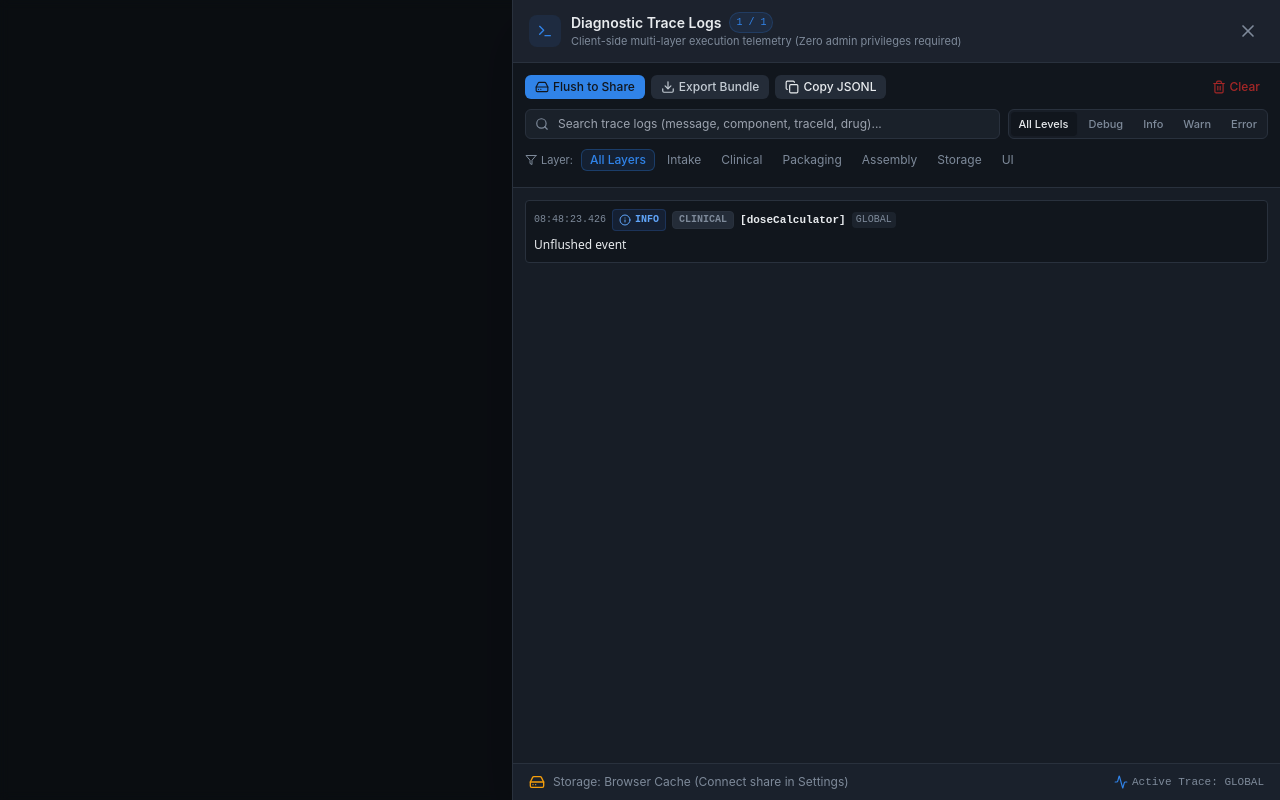
Test: TraceLogDrawer › displays destination feedback on successful flush
The width and height of the screenshot is (1280, 800).
Click the button titled "Flush pending memory traces".
click(585, 86)  # box [525,74,645,98]
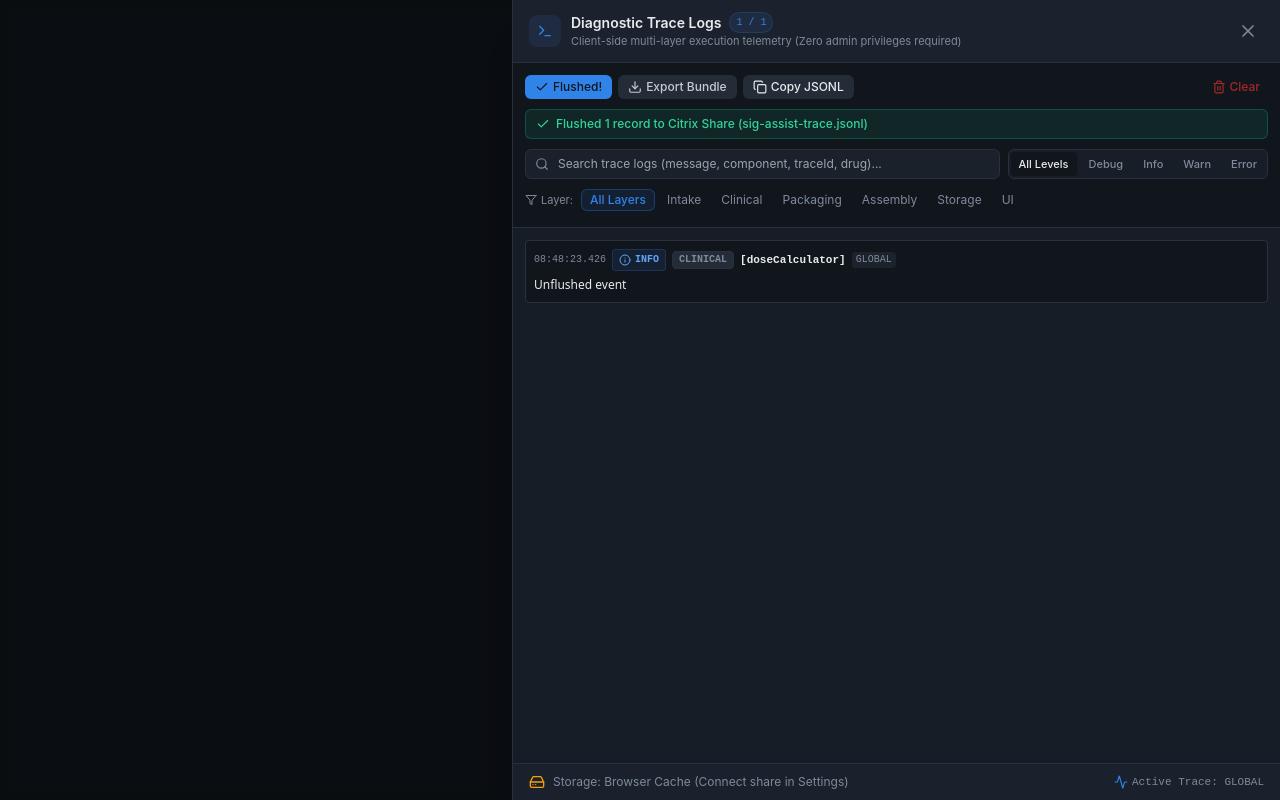
Check: the element with test id "flush-feedback-banner" reads "Flushed 1 record to Citrix Share (sig-assist-trace.jsonl)", box [556,116,868,130]
